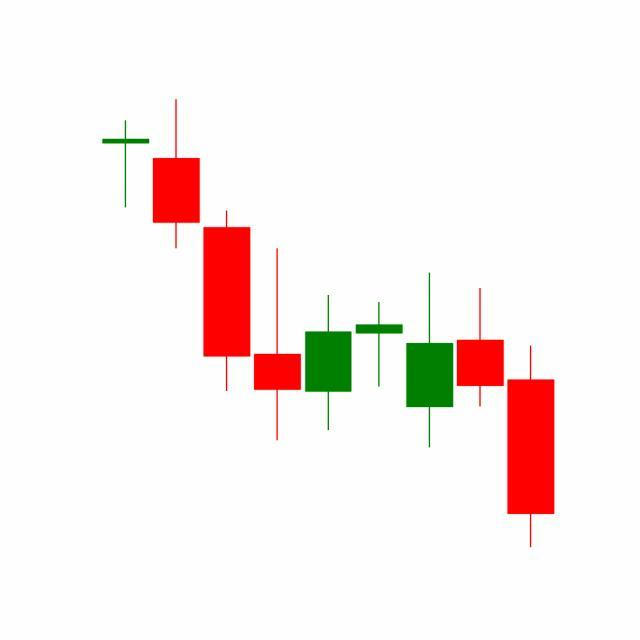Hikkake Pattern: (302, 269, 555, 548)
